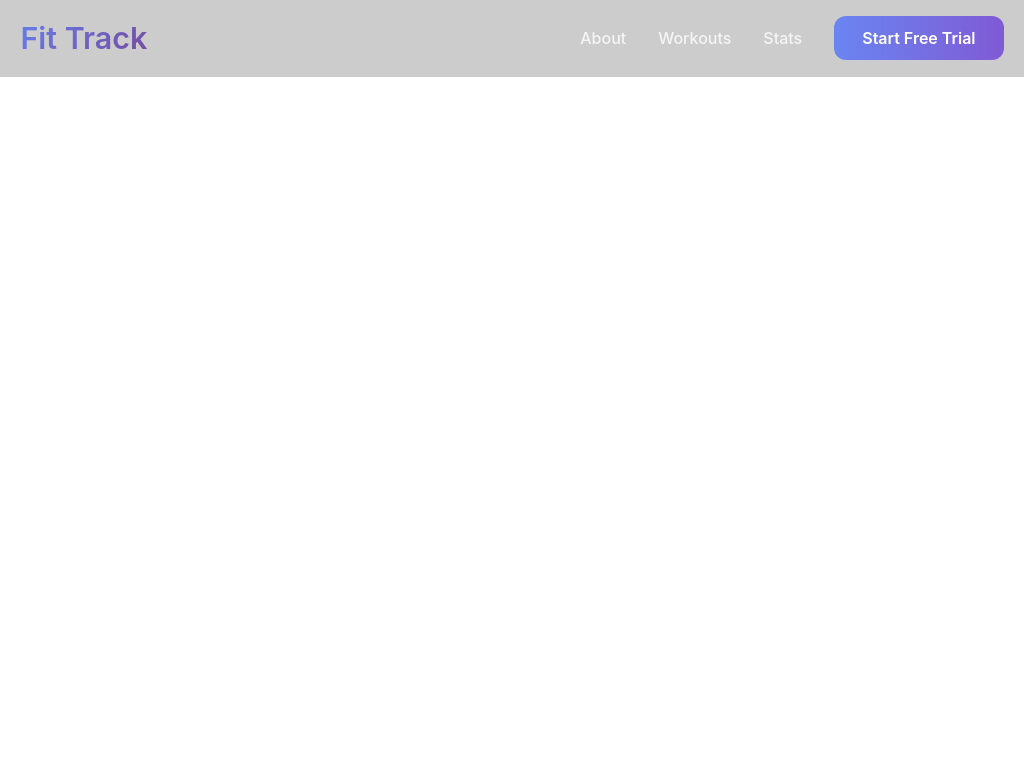
Test: TabSwitcher component › shows login button when user is not authenticated
Expected: the text "Fit Track" is shown, [20, 20, 147, 56]
Expected: the link "About" is shown, [580, 28, 626, 48]
Click the button "Start Free Trial" at (919, 38), box [834, 16, 1003, 60]
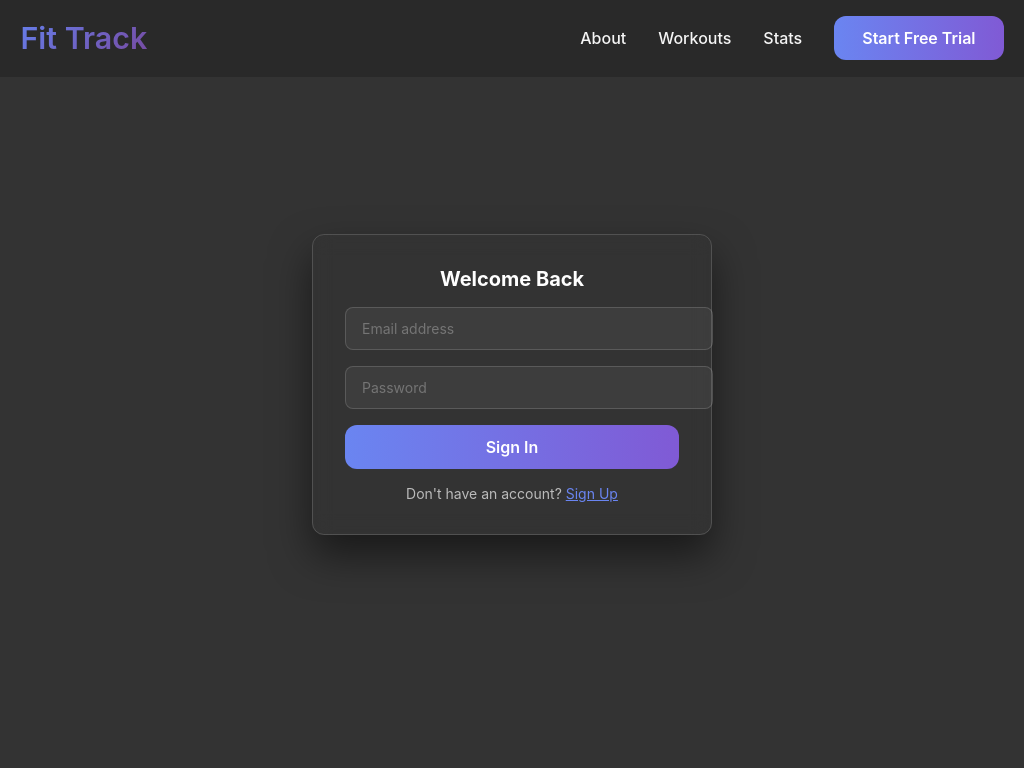
Expected: the field with placeholder "Email address" is shown, [345, 306, 713, 350]
